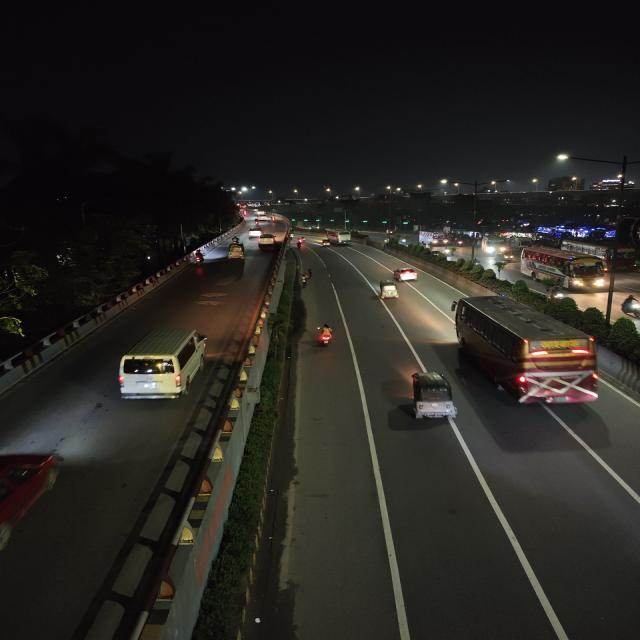bus: (448, 295, 605, 410), (519, 247, 609, 293), (561, 239, 638, 271), (420, 230, 452, 248), (482, 234, 507, 256), (334, 231, 352, 244)
car: (112, 324, 212, 404), (393, 265, 421, 282), (256, 234, 277, 248), (246, 226, 262, 238), (319, 237, 334, 247)
cng: (400, 368, 463, 424), (376, 278, 401, 302), (226, 244, 247, 262)
motorcycle: (312, 322, 338, 350), (620, 292, 640, 319), (547, 285, 567, 301), (192, 249, 206, 267), (295, 236, 307, 248)
pedestrian: (298, 276, 310, 290), (304, 266, 316, 278)
